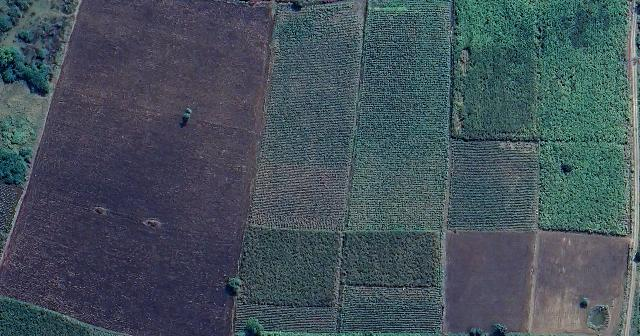EmptyFarms: (1, 2, 276, 336), (534, 232, 630, 336), (446, 230, 536, 333)
Farms: (448, 0, 630, 234), (250, 1, 365, 231), (348, 1, 453, 231), (236, 227, 344, 331), (339, 230, 441, 336), (449, 140, 539, 226)
